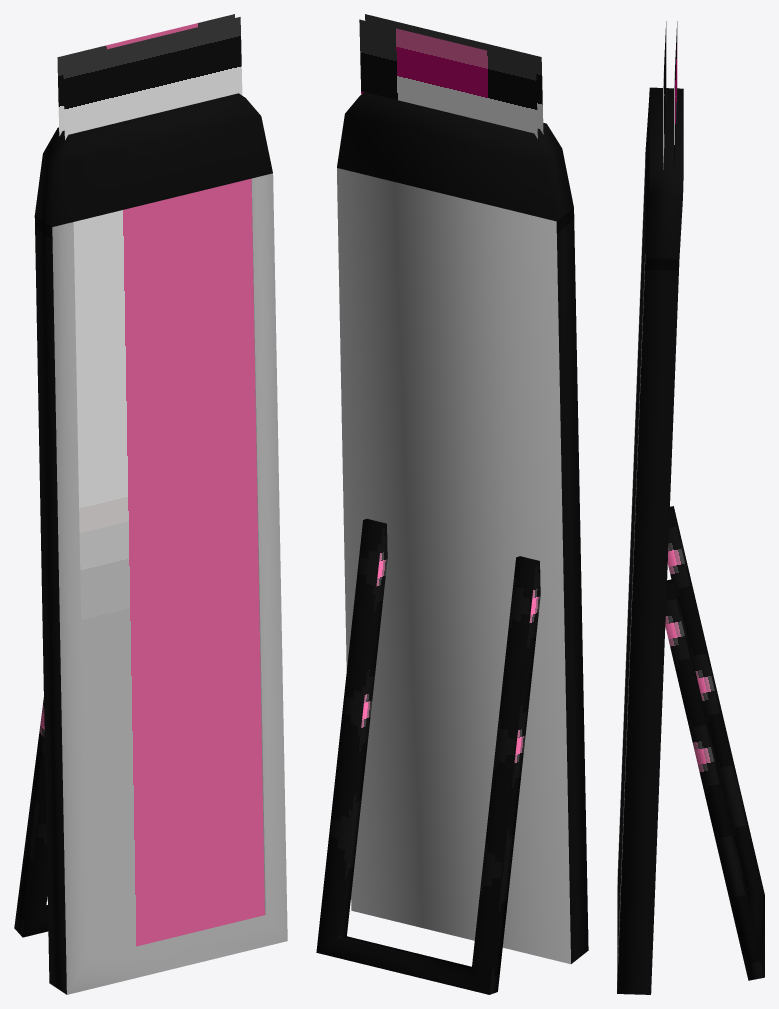
The picture shows the model from 3 angles, left to right: view 1: azimuth 30°, elevation 25°; view 2: azimuth 150°, elevation 25°; view 3: azimuth 270°, elevation 25°; orthographic projection. The views are drawn at different scales.
Visible parts, largest first — view 1: 3680kg_gl_mir; view 2: 3680kg_gl_mir; view 3: 3680kg_gl_mir.
Boxes of the visible parts, bbox=[...] form: 3680kg_gl_mir: bbox=[14, 14, 287, 994]; 3680kg_gl_mir: bbox=[316, 14, 588, 994]; 3680kg_gl_mir: bbox=[617, 21, 764, 994].
Size of the model in its own units: 0.5308 by 2.09 by 0.3169.
Materials: 1 (1 with a texture image).
